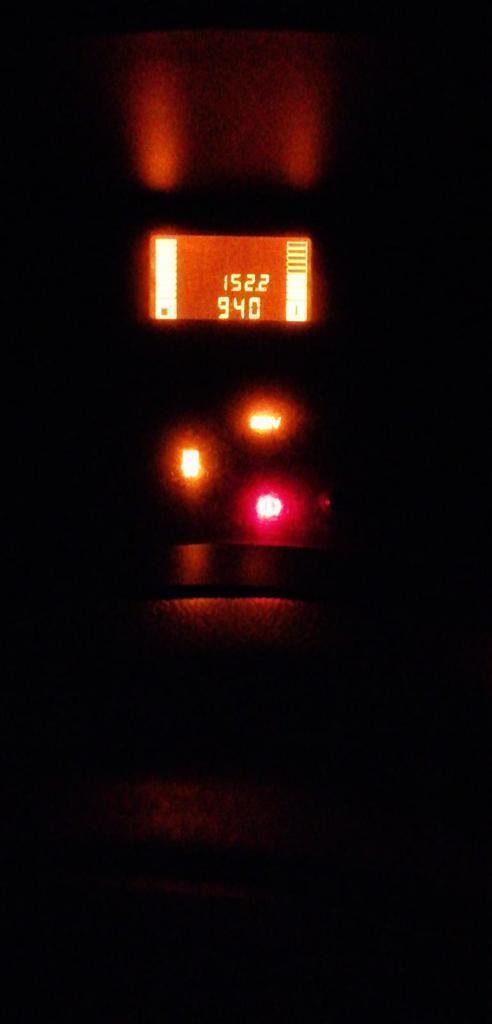,: (254, 286, 258, 293)
0: (248, 296, 261, 320)
1: (222, 271, 229, 292)
2: (258, 272, 269, 292), (245, 272, 254, 291)
4: (233, 296, 246, 319)
5: (230, 271, 241, 292)
9: (215, 293, 230, 320)
odometer: (141, 232, 316, 324)
